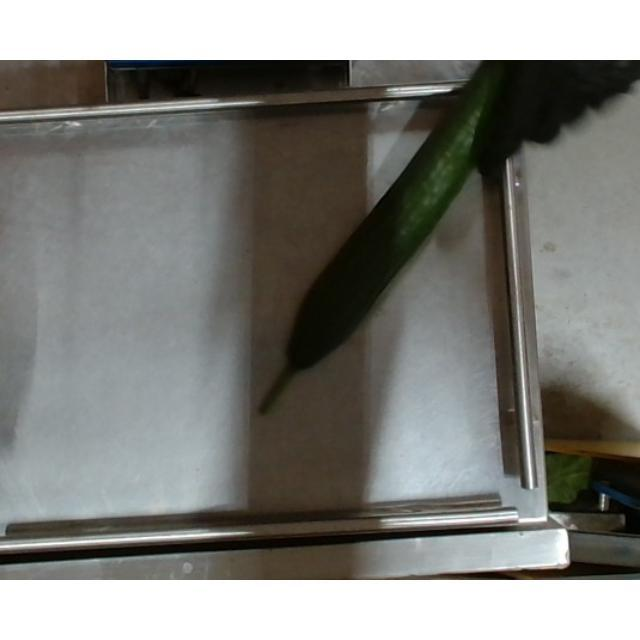cucumber: (268, 62, 492, 414)
